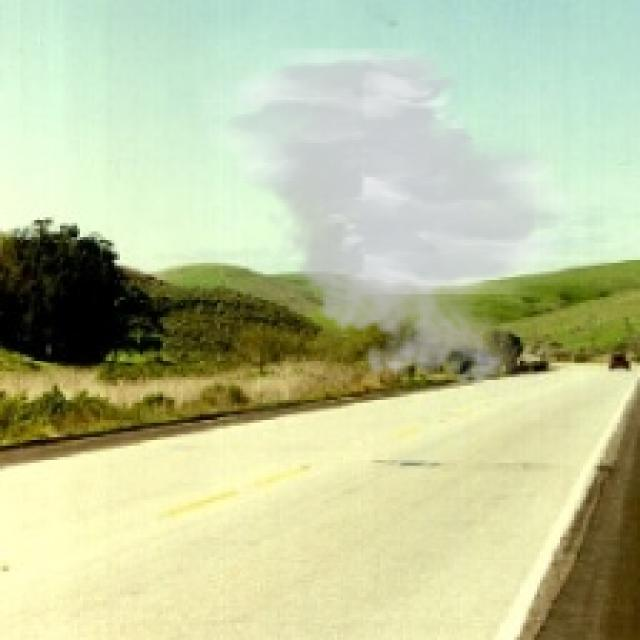smoke: (203, 49, 588, 397)
